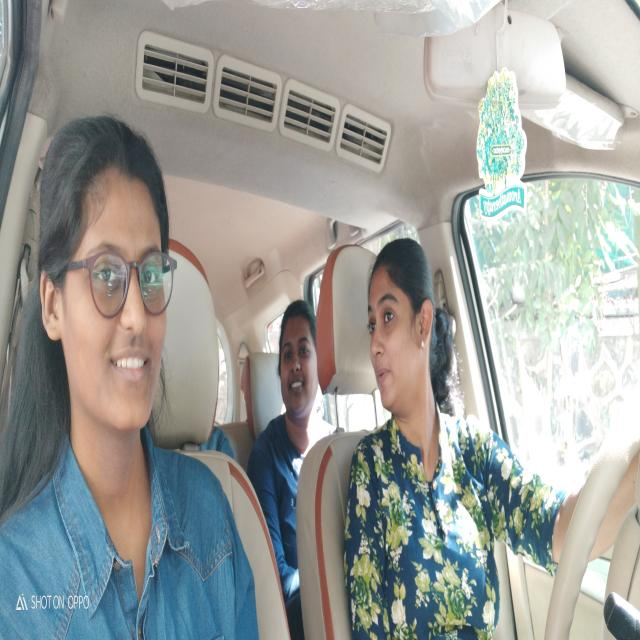LeftRight: (364, 240, 439, 423)
person: (31, 114, 170, 431), (277, 302, 321, 424)
